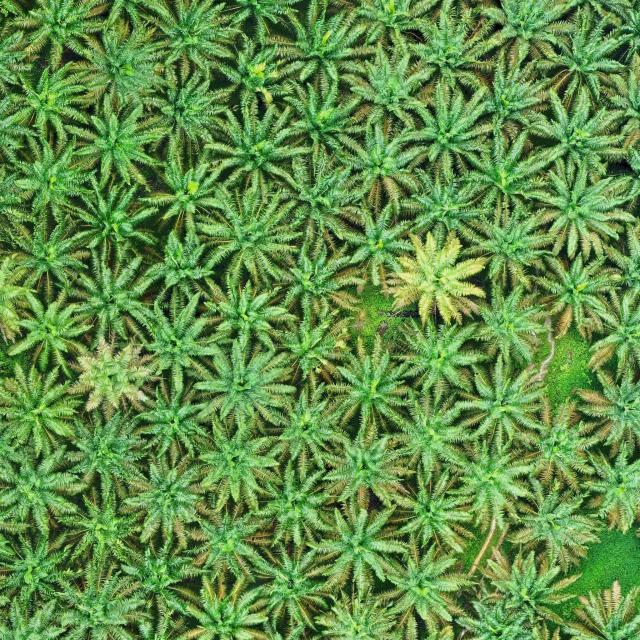Tree: (524, 157, 637, 262), (496, 468, 603, 575), (520, 84, 631, 184), (237, 536, 346, 637), (436, 429, 540, 533), (200, 185, 301, 292), (185, 346, 298, 441), (386, 229, 495, 327), (269, 0, 379, 96), (1, 126, 100, 230), (451, 198, 556, 296), (473, 548, 583, 640), (507, 390, 602, 496), (269, 150, 368, 251), (377, 538, 479, 636), (64, 12, 168, 108), (306, 500, 410, 596), (200, 104, 306, 198), (386, 381, 479, 487), (57, 403, 153, 505), (388, 298, 484, 399), (134, 65, 232, 162), (127, 287, 221, 388), (320, 335, 413, 437), (316, 423, 420, 514), (392, 86, 492, 180), (109, 529, 202, 630), (191, 269, 297, 356), (62, 254, 158, 350), (66, 96, 164, 190), (274, 71, 369, 166), (452, 357, 548, 451), (190, 416, 281, 515), (0, 438, 90, 538), (262, 240, 368, 323), (135, 153, 229, 246), (139, 0, 244, 83), (526, 250, 622, 340), (461, 49, 556, 139), (338, 42, 438, 127), (3, 287, 92, 381), (64, 330, 160, 417), (125, 450, 210, 547), (394, 164, 494, 245), (0, 52, 90, 142), (262, 373, 342, 474), (384, 468, 475, 556), (251, 453, 334, 549), (45, 563, 148, 640), (0, 362, 86, 454), (330, 124, 422, 209), (64, 179, 156, 263), (461, 124, 549, 211), (462, 281, 550, 368), (264, 305, 353, 391), (53, 490, 141, 576), (401, 8, 483, 99), (533, 25, 627, 104), (336, 194, 414, 288), (0, 218, 90, 299), (181, 498, 271, 577), (211, 32, 295, 116), (169, 571, 270, 640), (133, 371, 210, 460), (136, 223, 214, 309), (0, 525, 73, 615), (571, 444, 640, 533), (574, 366, 640, 454), (586, 285, 640, 379)
